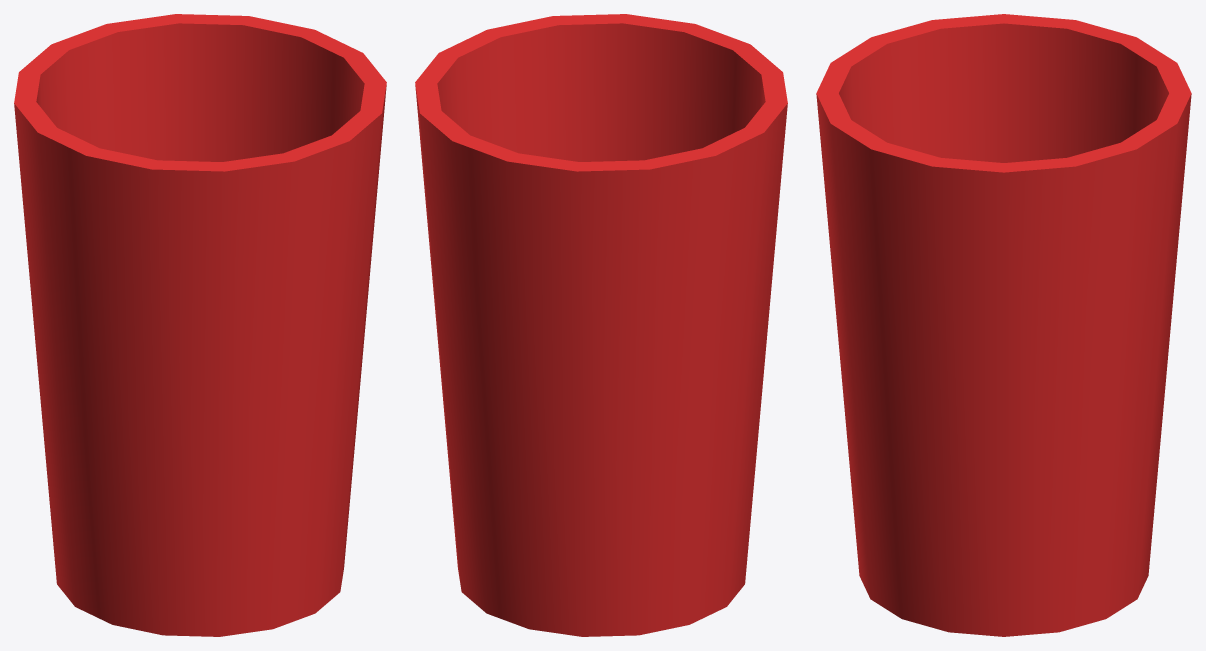
Rendered from red_cup.fbx.
The picture shows the model from 3 angles, left to right: view 1: azimuth 30°, elevation 25°; view 2: azimuth 150°, elevation 25°; view 3: azimuth 270°, elevation 25°; orthographic projection.
Visible parts, largest first — view 1: Cylinder.001; view 2: Cylinder.001; view 3: Cylinder.001.
Part boxes in pixels (left/top/right/bottom): Cylinder.001: left=14, top=14, right=386, bottom=636; Cylinder.001: left=415, top=14, right=787, bottom=636; Cylinder.001: left=816, top=14, right=1191, bottom=636.
Size of the model in its own units: 14.8 by 21 by 14.8.
